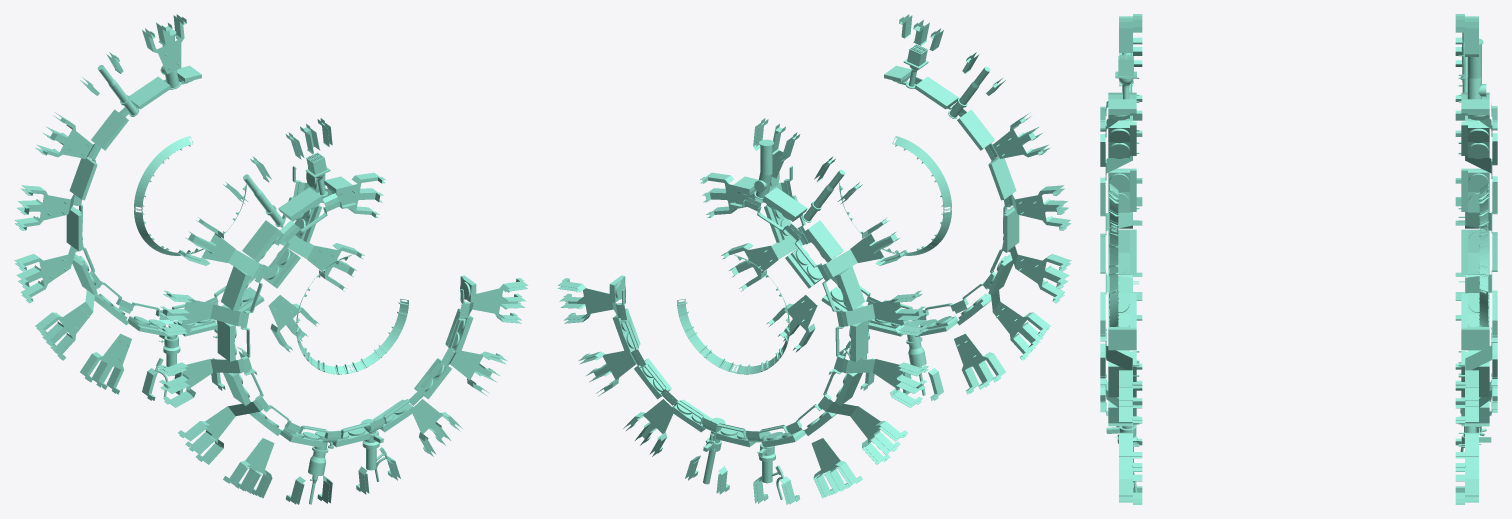
The model's file is Gap-region-serv-cut3.glb.
The picture shows the model from 3 angles, left to right: view 1: azimuth 30°, elevation 25°; view 2: azimuth 150°, elevation 25°; view 3: azimuth 270°, elevation 25°; orthographic projection. The views are drawn at different scales.
Parts seen in each view (by area): view 1: Cabl Tray, El Box, Lar Pump.001, inlet outlet.001, Lar Drin.001, The Unnit.001; view 2: Cabl Tray, El Box, inlet outlet.001, Lar Pump.001, Safety Line.001, Lar Drin.001, Lar by pas.001, The Unnit.001; view 3: Cabl Tray, El Box, Safety Line.001, The Unnit.001.
Part boxes in pixels (x1=…): Cabl Tray: x1=14, y1=14, x2=528, y2=504; El Box: x1=66, y1=65, x2=476, y2=447; Lar Pump.001: x1=154, y1=323, x2=388, y2=481; inlet outlet.001: x1=97, y1=65, x2=285, y2=226; Lar Drin.001: x1=308, y1=431, x2=333, y2=504; The Unnit.001: x1=305, y1=152, x2=330, y2=197; Cabl Tray: x1=557, y1=14, x2=1071, y2=504; El Box: x1=609, y1=65, x2=1019, y2=447; inlet outlet.001: x1=802, y1=66, x2=990, y2=222; Lar Pump.001: x1=757, y1=320, x2=870, y2=499; Safety Line.001: x1=754, y1=139, x2=773, y2=199; Lar Drin.001: x1=904, y1=322, x2=926, y2=395; Lar by pas.001: x1=703, y1=417, x2=725, y2=484; The Unnit.001: x1=903, y1=44, x2=928, y2=88; Cabl Tray: x1=1100, y1=14, x2=1497, y2=504; El Box: x1=1108, y1=92, x2=1489, y2=426; Safety Line.001: x1=1467, y1=38, x2=1486, y2=99; The Unnit.001: x1=1115, y1=54, x2=1136, y2=99.
Size of the model in its own units: 8.64 by 8.64 by 7.01.
